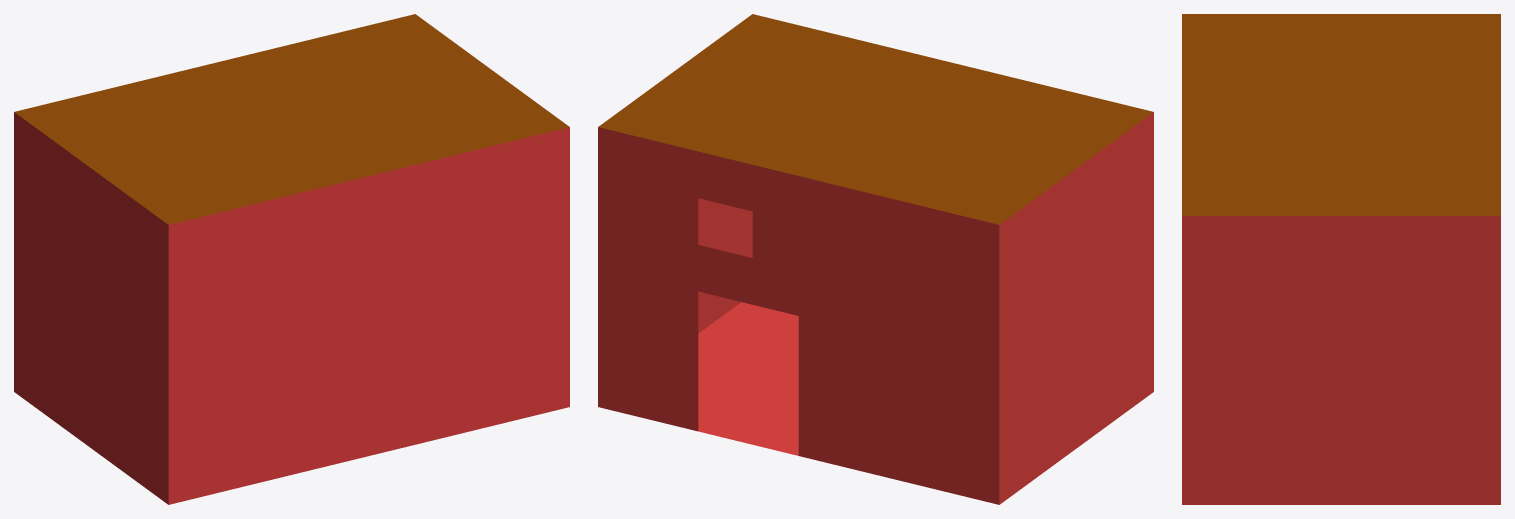
File: red.gltf
3 renders of one model, left to right at view 1: azimuth 30°, elevation 25°; view 2: azimuth 150°, elevation 25°; view 3: azimuth 270°, elevation 25°, orthographic. The views are drawn at different scales.
Parts seen in each view (by area): view 1: Cube; view 2: Cube; view 3: Cube.
Part boxes in pixels (x1,y1,x2,y2): Cube: (14, 14, 569, 504); Cube: (598, 14, 1153, 504); Cube: (1182, 14, 1500, 504).
Bounding box in the file's own units: 6 × 4 × 4.
